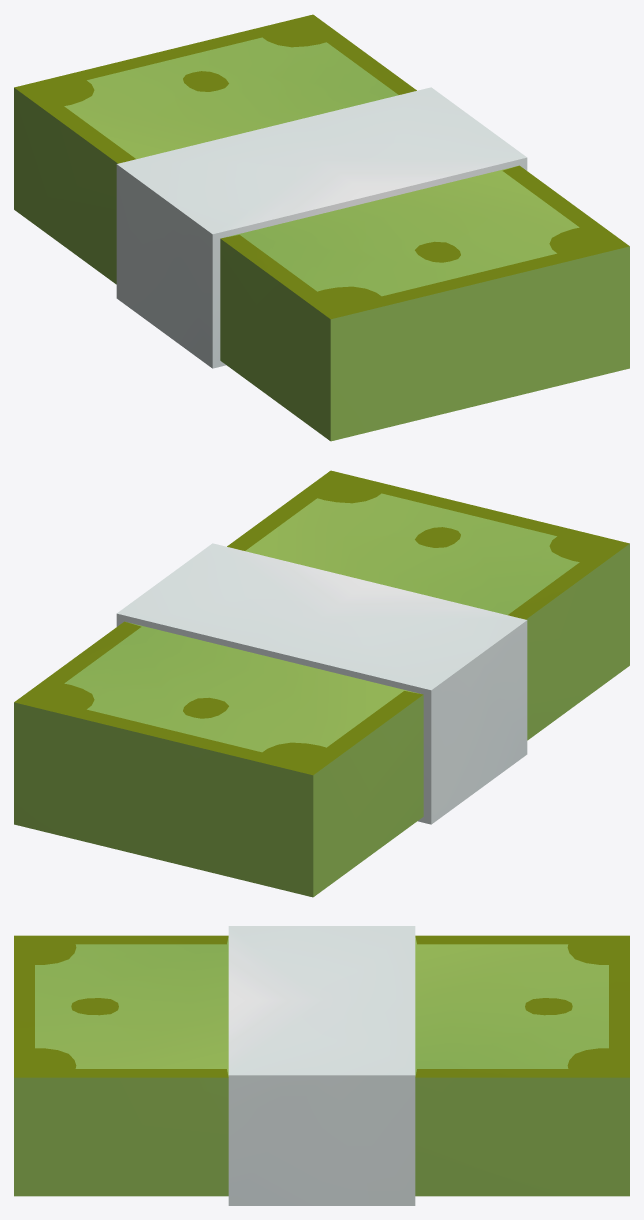
File: dollar.fbx
3 views of the same model, one above another, from view 1: azimuth 30°, elevation 25°; view 2: azimuth 150°, elevation 25°; view 3: azimuth 270°, elevation 25° (orthographic). The views are drawn at different scales.
Visible parts, largest first — view 1: dollar; view 2: dollar; view 3: dollar.
Boxes of the visible parts, x1,y1,x2,y2 form: dollar: [14, 14, 629, 441]; dollar: [14, 470, 629, 897]; dollar: [14, 926, 629, 1205].
Bounding box in the file's own units: 126 × 51.48 × 220.
1 material, 1 textured.
